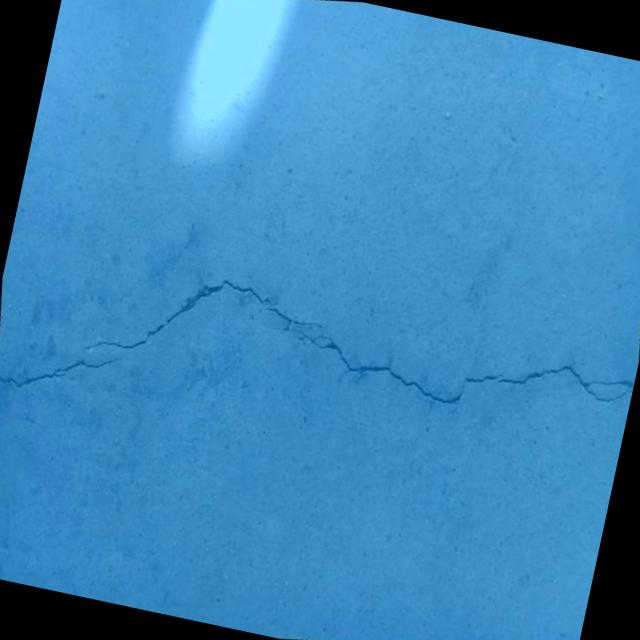crack: (66, 186, 640, 497), (0, 329, 133, 414)
